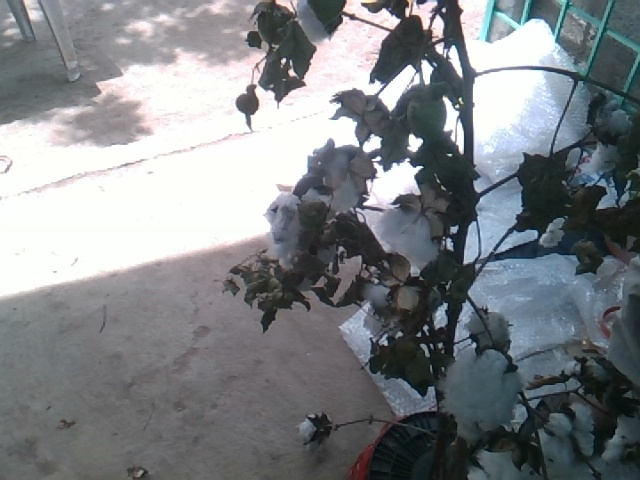cotton: (442, 348, 519, 430), (306, 139, 370, 214), (260, 191, 308, 273), (378, 206, 436, 267), (402, 81, 453, 146), (542, 410, 599, 464), (332, 92, 392, 133), (467, 307, 514, 349)
